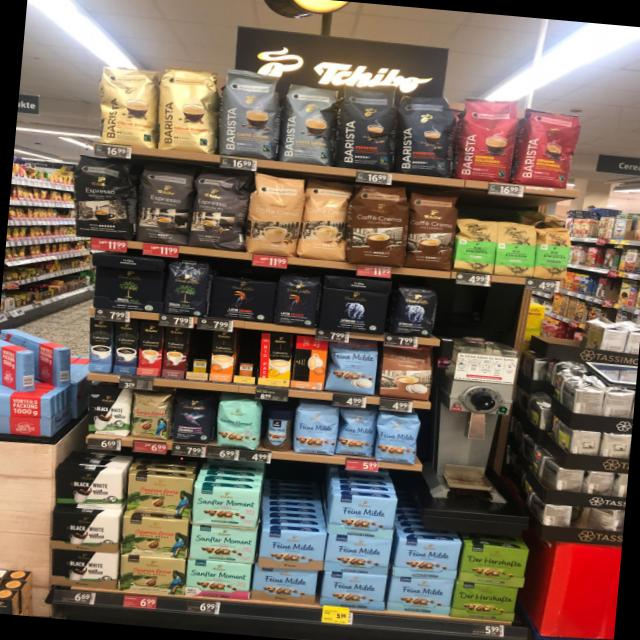AB Bohne: (391, 286, 439, 339)
AB Gemahlen: (316, 286, 388, 335)
Athiopien Bohne: (532, 222, 574, 282)
Athiopien Gemahlen: (493, 218, 538, 278), (453, 217, 498, 275)
BM Bohne: (162, 256, 212, 318)
BM Gemahlen: (92, 266, 165, 312)
BW Bohne: (82, 383, 132, 437)
BW Gemahlen: (52, 468, 125, 511), (48, 511, 120, 554), (48, 548, 118, 590)
Barista CB: (154, 64, 222, 152), (93, 63, 160, 148)
Barista CC: (217, 66, 282, 160), (278, 80, 336, 167)
Barista Espresso: (334, 82, 398, 173), (394, 90, 458, 177)
Barista Kolumbien: (518, 106, 584, 188), (458, 95, 518, 182)
C Fino Bohne: (170, 394, 216, 444)
CC Mild: (246, 171, 306, 257), (300, 176, 350, 262)
CC Vollmundig: (378, 345, 433, 401)
CC Vollmundig 36 Pads: (346, 180, 410, 266), (404, 190, 458, 270)
Colombia BB Bohne: (128, 391, 172, 440)
Colombia BB Gemahlen: (120, 514, 190, 560), (124, 472, 194, 516), (117, 554, 187, 596)
Espresso Aromatisch: (133, 162, 195, 246)
Espresso M Art: (190, 168, 251, 252)
Espresso S Art: (68, 151, 140, 241)
FM 36 Pads: (325, 341, 379, 395)
FM Bohne: (291, 404, 339, 456), (374, 412, 421, 464), (336, 408, 378, 458)
FM Gemahlen: (328, 493, 398, 538), (391, 536, 461, 580), (258, 528, 326, 572), (324, 532, 392, 576), (252, 562, 318, 606), (320, 570, 387, 610), (388, 576, 454, 616)
FM Instant: (261, 406, 295, 452)
Herzhatfe Mundig: (459, 542, 529, 586), (452, 580, 518, 623)
LG Bohne: (273, 272, 321, 328)
LG Gemahlen: (208, 274, 276, 322)
SM Bohne: (212, 395, 262, 451)
SM Gemahlen: (191, 484, 260, 528), (184, 558, 252, 600), (188, 523, 256, 564)
Simo CCMild: (259, 332, 291, 386)
Simo CCVollmundig bigpack: (209, 329, 236, 381)
Simo Es Brazil: (136, 321, 164, 376)
Simo Es Caramel: (161, 326, 189, 379)
Simo Es Kraft: (114, 321, 138, 374)
Simo Es Vanilla: (89, 317, 112, 372)
